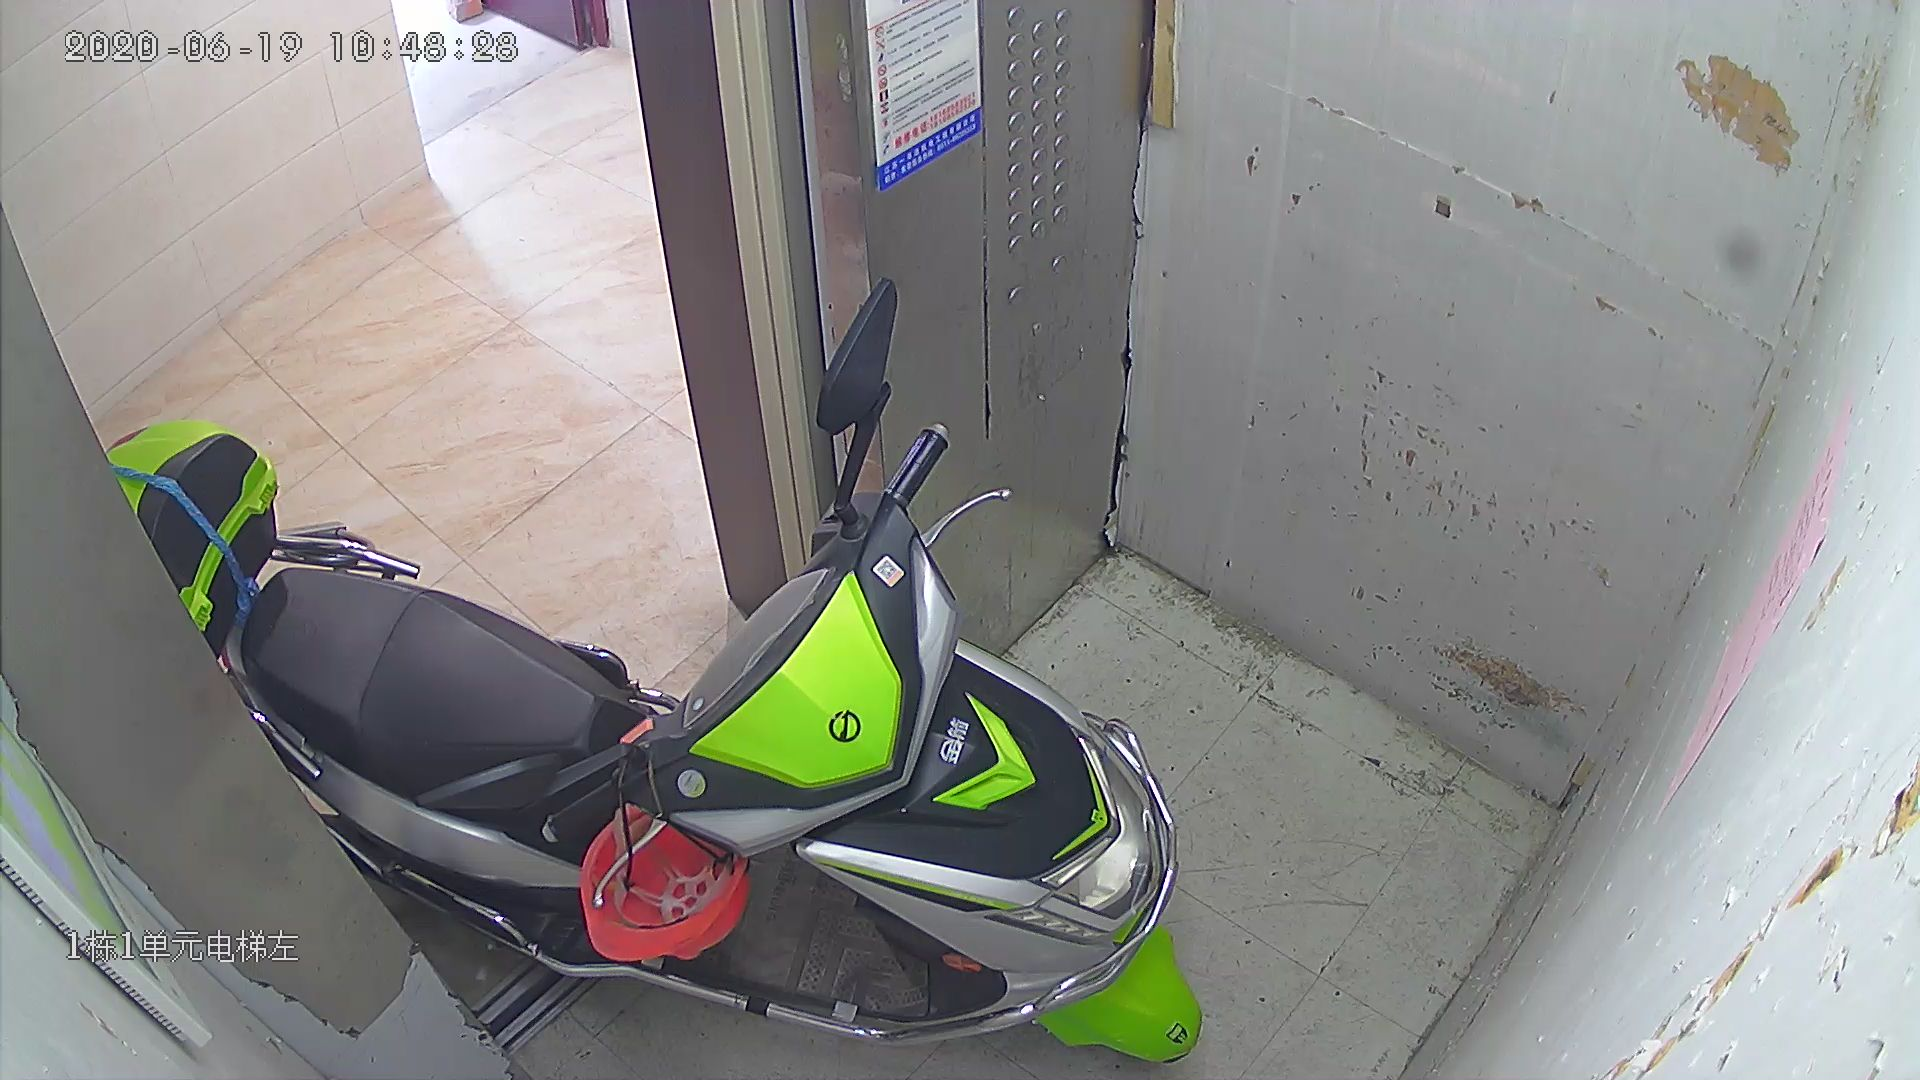Electric-bicycle: (99, 273, 1199, 1060)
